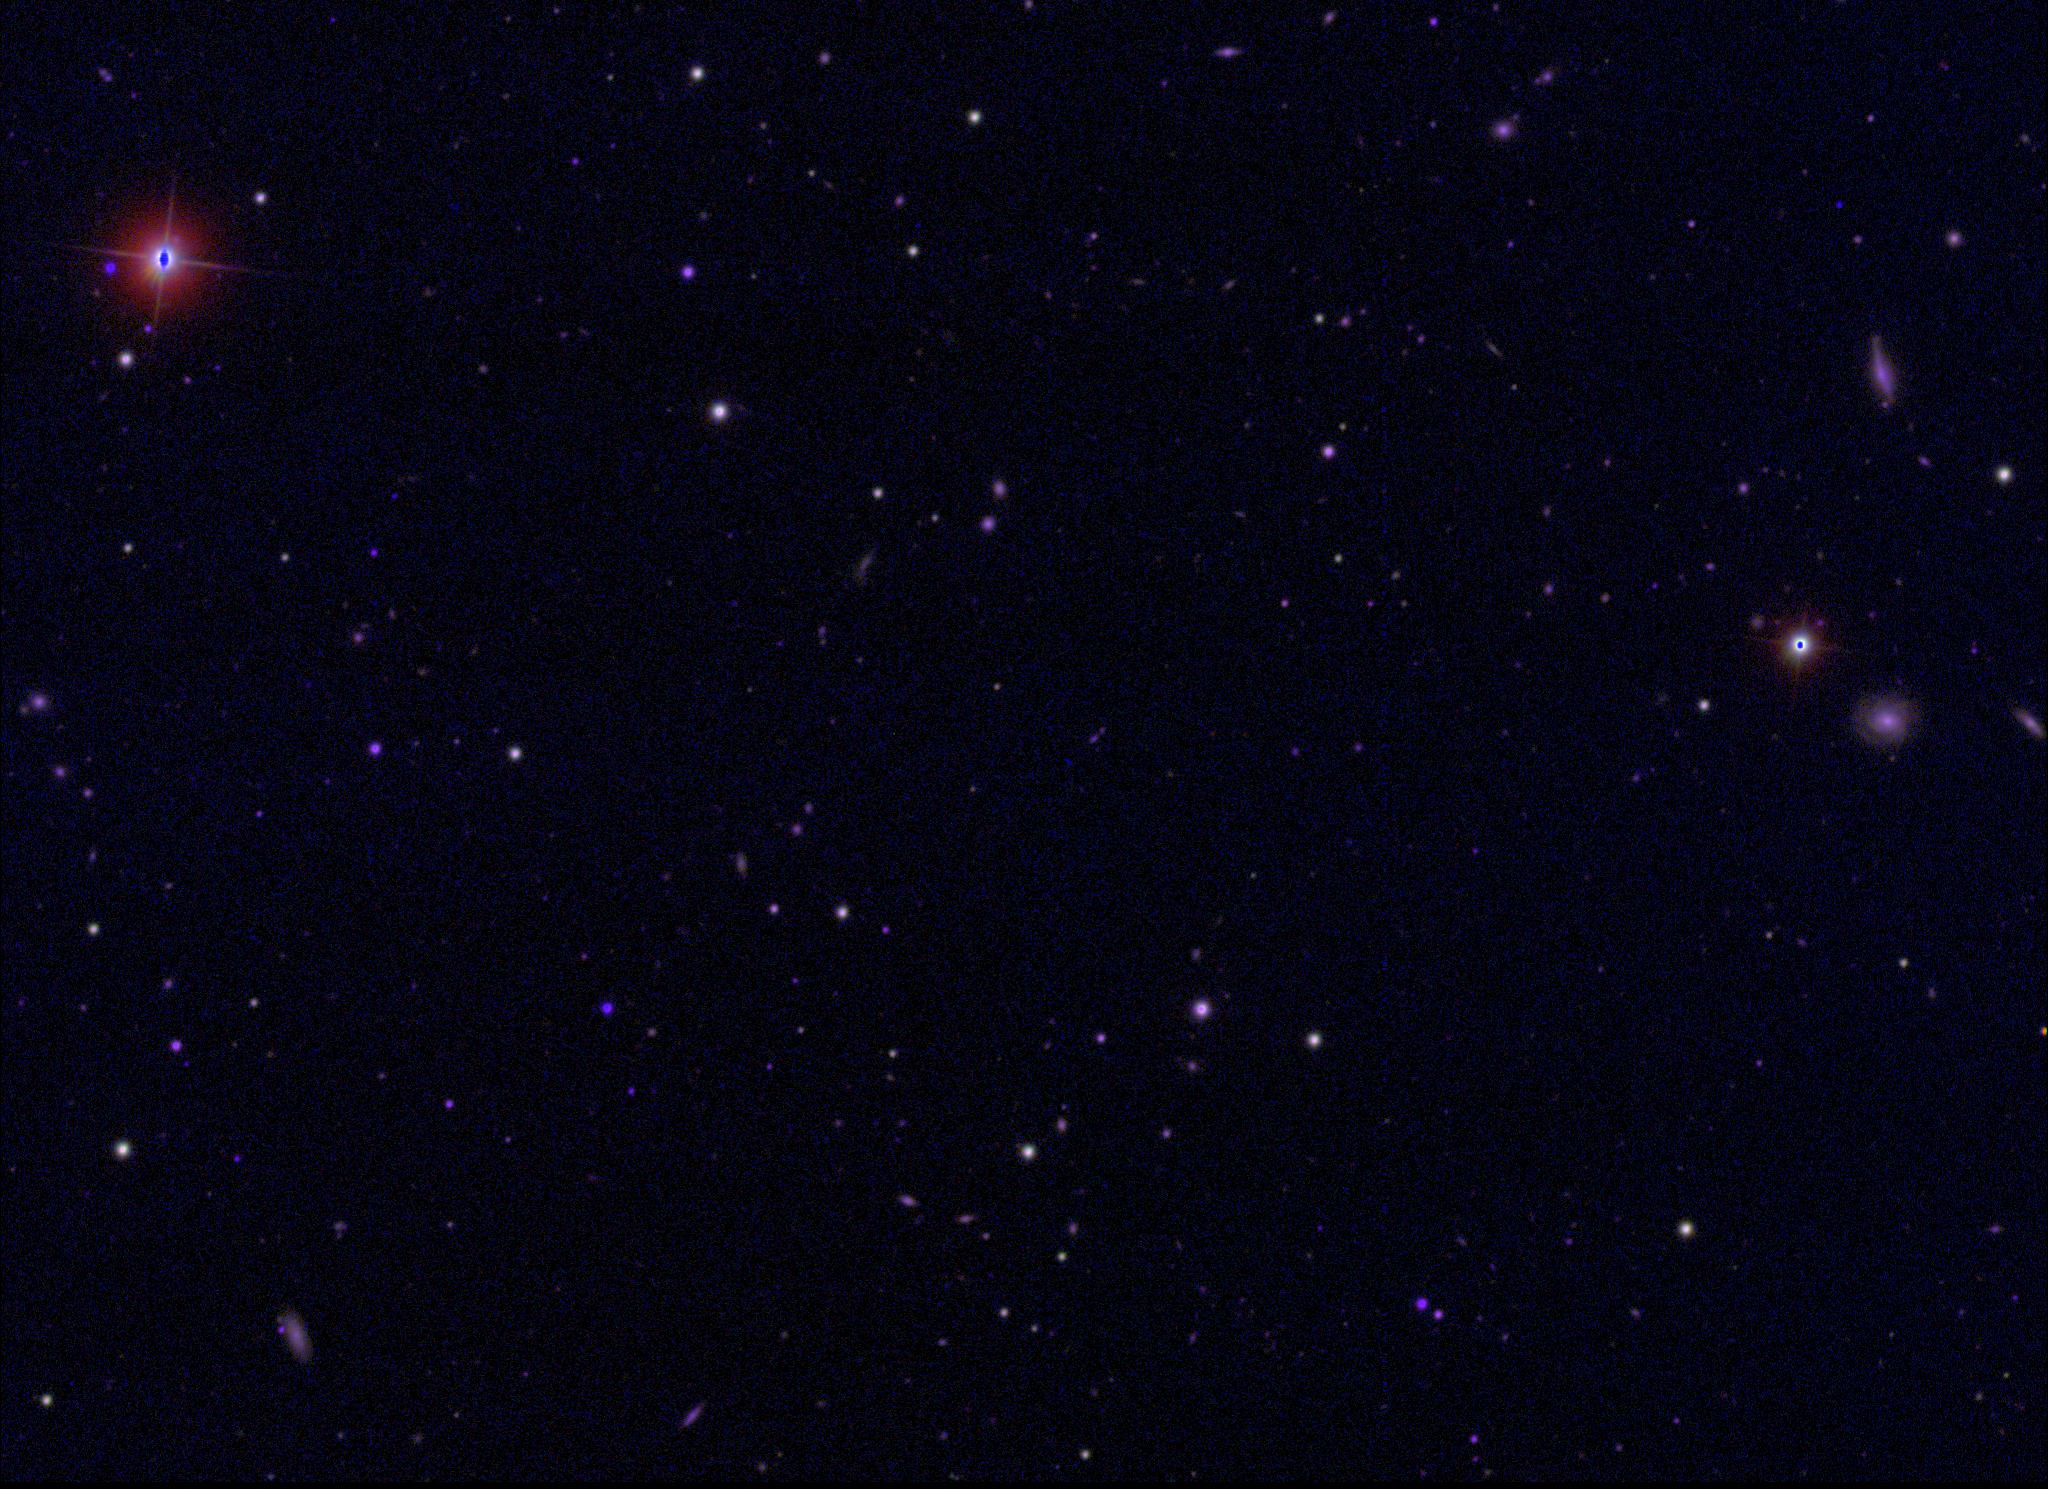L: (1832, 197, 1846, 212)
